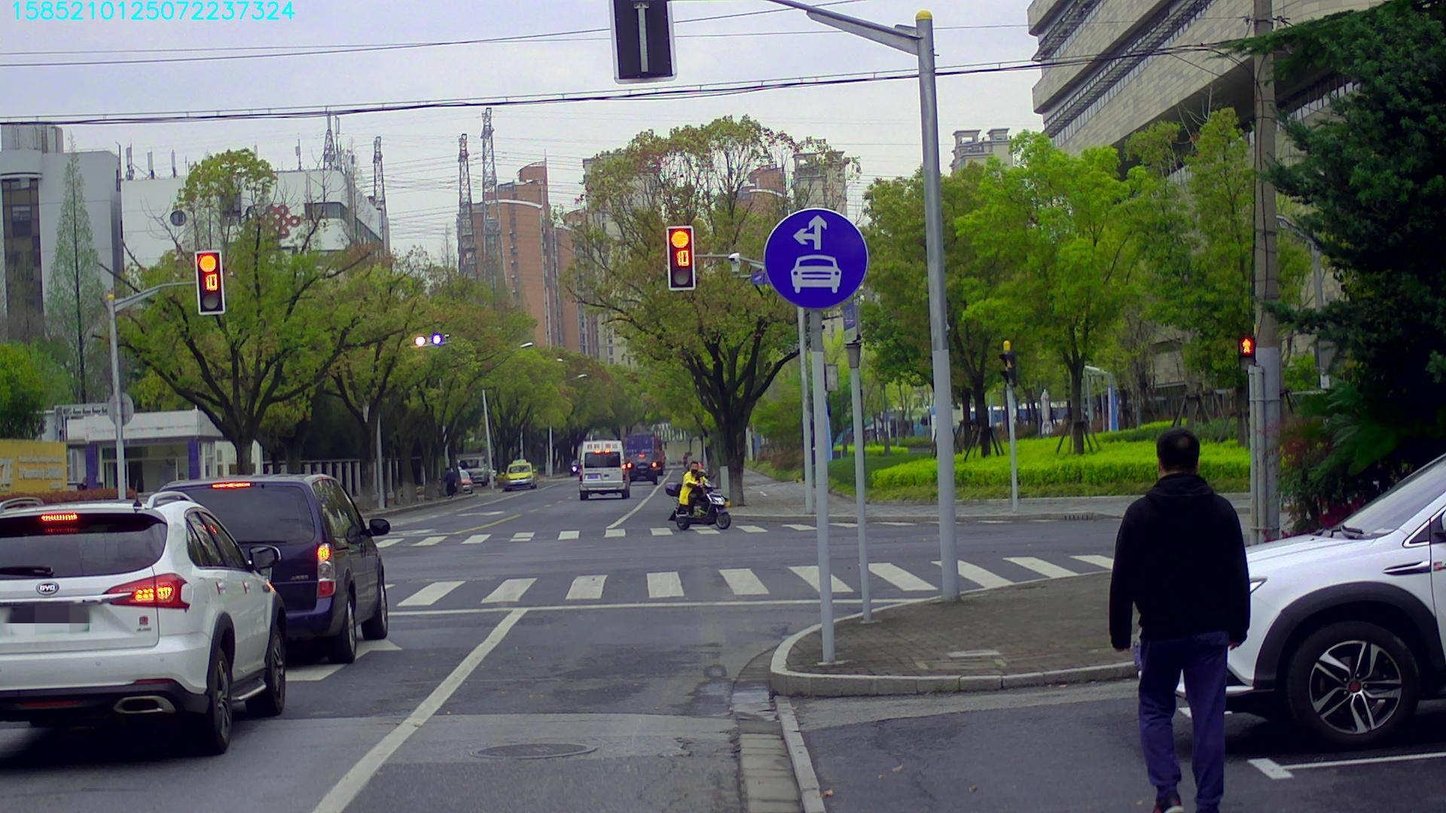red: (195, 251, 222, 312), (668, 227, 693, 288)
